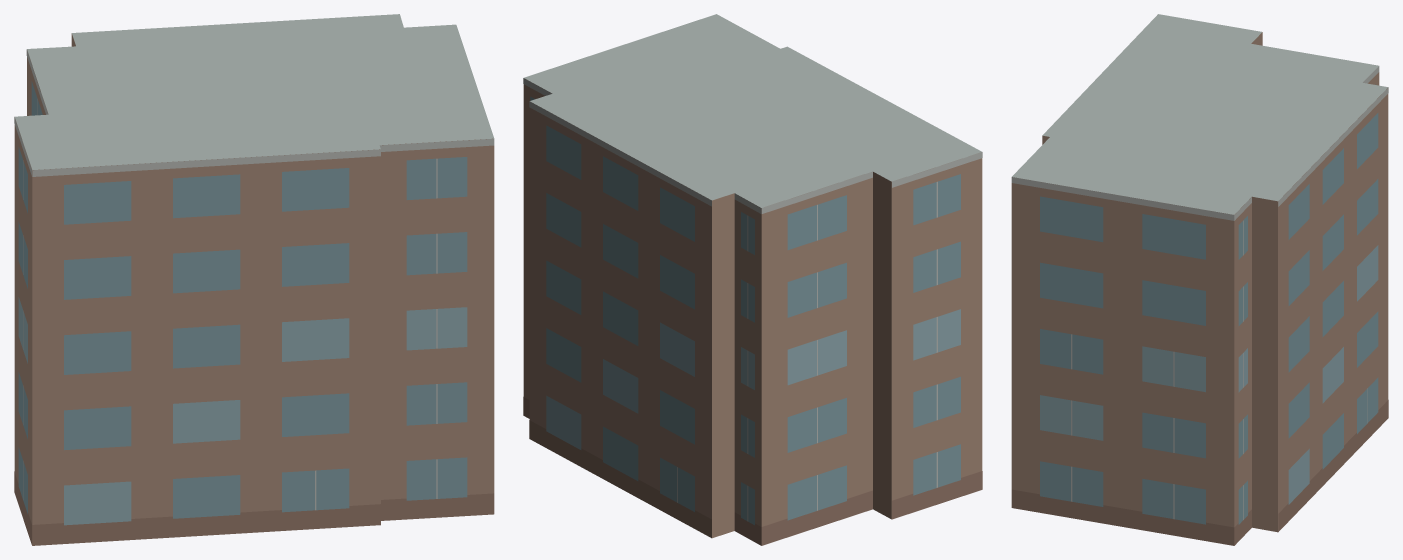
The model's file is survey-upis-32660390.glb.
The picture shows the model from 3 angles, left to right: view 1: azimuth 30°, elevation 25°; view 2: azimuth 150°, elevation 25°; view 3: azimuth 270°, elevation 25°; orthographic projection. The views are drawn at different scales.
Visible parts, largest first — view 1: survey-upis-32660390.tmp; view 2: survey-upis-32660390.tmp; view 3: survey-upis-32660390.tmp.
Boxes of the visible parts, x1,y1,x2,y2 form: survey-upis-32660390.tmp: [14, 14, 494, 545]; survey-upis-32660390.tmp: [523, 14, 982, 545]; survey-upis-32660390.tmp: [1011, 14, 1388, 545].
Size of the model in its own units: 17.32 by 13.3 by 13.73.
